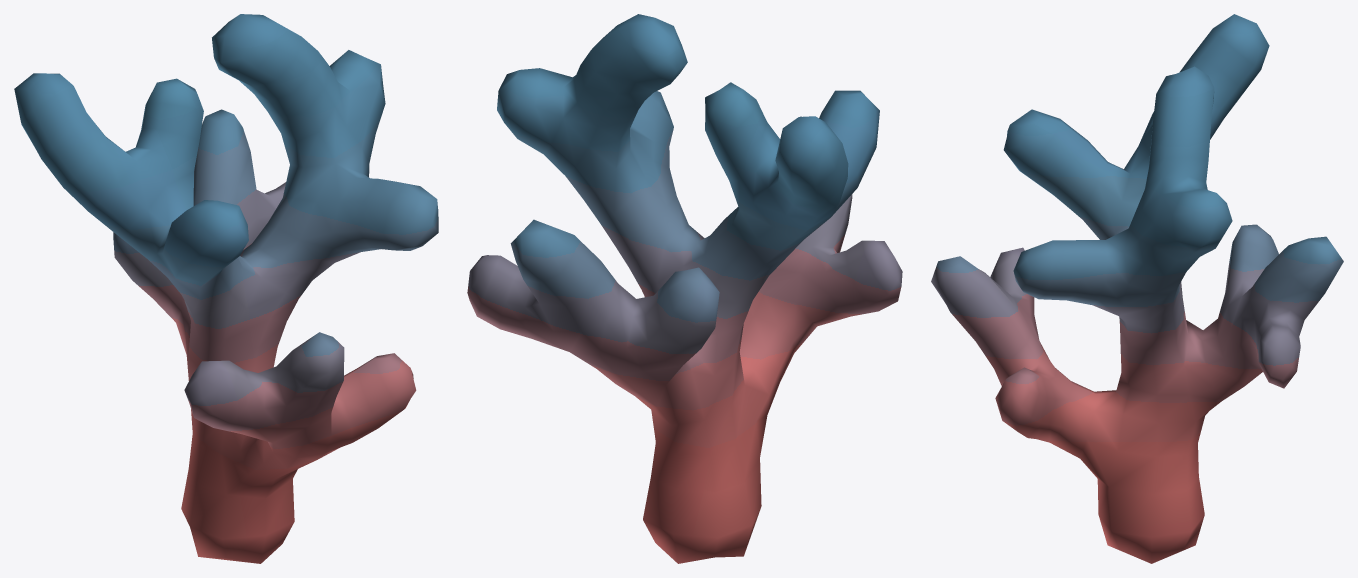
The model's file is model_coral_06.fbx.
3 renders of one model, left to right at view 1: azimuth 30°, elevation 25°; view 2: azimuth 150°, elevation 25°; view 3: azimuth 270°, elevation 25°, orthographic. The views are drawn at different scales.
Visible parts, largest first — view 1: pCube7; view 2: pCube7; view 3: pCube7.
Boxes of the visible parts, x1,y1,x2,y2 form: pCube7: (14,14,438,563); pCube7: (467,14,902,563); pCube7: (931,14,1343,563).
Bounding box in the file's own units: 8.54 × 12.56 × 9.38.
